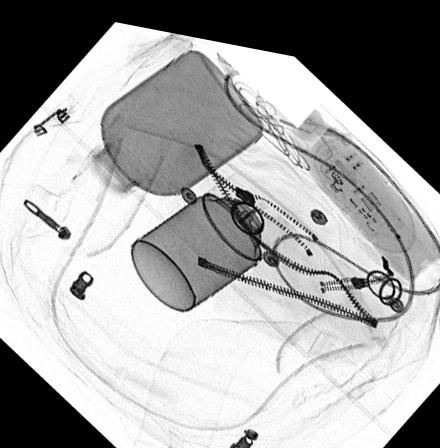Sprayer: (128, 162, 296, 303)
